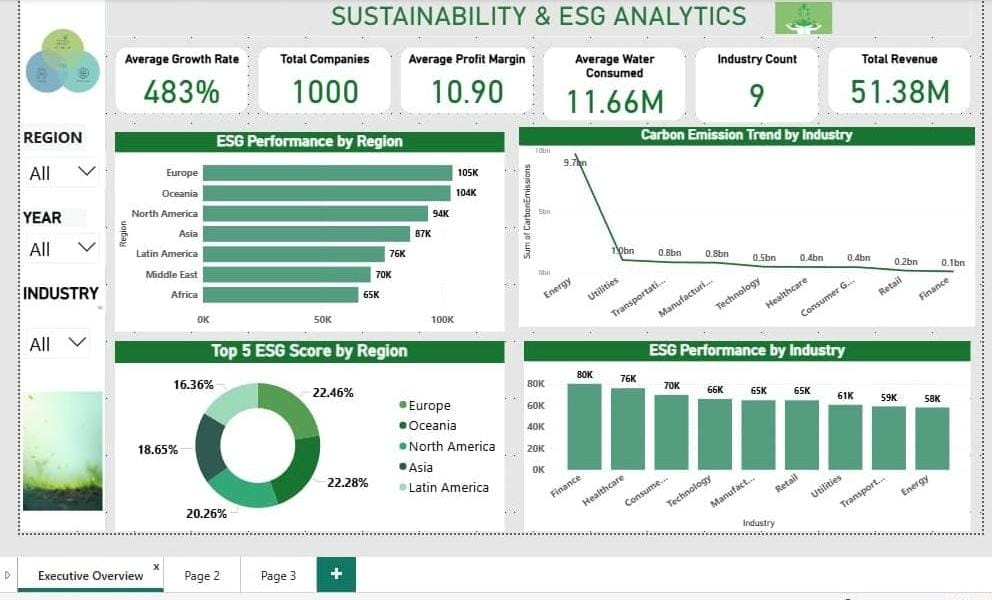

This screenshot's page, from the dashboard's own definition file:
{"tool":"powerbi","page":{"name":"Executive Overview","canvas":[1620,900],"ordinal":0},"visuals":[{"type":"card","title":"Total Companies","fields":{"Values":["Count(Sheet1.CompanyID)"]},"box":[400,80,224,112],"z":0},{"type":"card","title":"Total Revenue","fields":{"Values":["Sum(Sheet1.Revenue)"]},"box":[1360,80,240,112],"z":1000},{"type":"card","title":"Industry Count","fields":{"Values":["Count(Sheet1.Industry)"]},"box":[1136,80,208,128],"z":2000},{"type":"card","title":"Average Profit Margin","fields":{"Values":["Avg(Sheet1.ProfitMargin)"]},"box":[640,80,224,112],"z":3000},{"type":"card","title":"Average Growth Rate","fields":{"Values":["Avg(Sheet1.GrowthRate)"]},"box":[160,80,224,112],"z":4000},{"type":"clusteredColumnChart","title":"ESG Performance by Industry","fields":{"Category":["Sheet1.Industry"],"Y":["Sum(Sheet1.ESG_Overall)"]},"box":[848,576,752,320],"z":5000},{"type":"clusteredBarChart","title":"ESG Performance by Region","fields":{"Category":["Sheet1.Region"],"Y":["Sum(Sheet1.ESG_Overall)"]},"box":[160,224,656,336],"z":6000},{"type":"lineChart","title":"Carbon Emission Trend by Industry","fields":{"Y":["Sum(Sheet1.CarbonEmissions)"],"Category":["Sheet1.Industry"]},"box":[840,216,768,336],"z":7000},{"type":"card","title":"Average Water Consumed","fields":{"Values":["Avg(Sheet1.EnergyConsumption)"]},"box":[880,80,240,124],"z":8000},{"type":"shape","box":[0,0,144,896],"z":9000},{"type":"textbox","title":"SUSTAINABILITY & ESG ANALYTICS","box":[144,0,1456,64],"z":10000},{"type":"slicer","fields":{"Values":["Sheet1.Region"]},"box":[0,256,144,64],"z":11000},{"type":"textbox","box":[0,208,112,48],"z":12000},{"type":"slicer","fields":{"Values":["Sheet1.Year"]},"box":[0,384,144,64],"z":13000},{"type":"textbox","title":"YEAR","box":[0,352,112,32],"z":14000},{"type":"slicer","fields":{"Values":["Sheet1.Industry"]},"box":[0,544,128,64],"z":15000},{"type":"textbox","title":"INDUSTRY","box":[0,480,144,48],"z":16000},{"type":"donutChart","title":"Top 5 ESG Score by Region","fields":{"Category":["Sheet1.Region"],"Y":["Sum(Sheet1.ESG_Overall)"]},"box":[160,576,656,320],"z":17000},{"type":"image","box":[0,0,144,208],"z":18000},{"type":"image","box":[0,624,144,272],"z":19000},{"type":"image","box":[1216,0,208,64],"z":20000}]}

Visuals, with their boxes on the page's 1620x900 design canvas (x1, y1, x2, y2). These are canvas units, not pixel positions in the 992x600 screenshot, which may show the page scaled, cropped or inside an application window:
"Total Companies" card: (left=400, top=80, right=624, bottom=192)
"Total Revenue" card: (left=1360, top=80, right=1600, bottom=192)
"Industry Count" card: (left=1136, top=80, right=1344, bottom=208)
"Average Profit Margin" card: (left=640, top=80, right=864, bottom=192)
"Average Growth Rate" card: (left=160, top=80, right=384, bottom=192)
"ESG Performance by Industry" clusteredColumnChart: (left=848, top=576, right=1600, bottom=896)
"ESG Performance by Region" clusteredBarChart: (left=160, top=224, right=816, bottom=560)
"Carbon Emission Trend by Industry" lineChart: (left=840, top=216, right=1608, bottom=552)
"Average Water Consumed" card: (left=880, top=80, right=1120, bottom=204)
shape: (left=0, top=0, right=144, bottom=896)
"SUSTAINABILITY & ESG ANALYTICS" textbox: (left=144, top=0, right=1600, bottom=64)
slicer - Sheet1.Region: (left=0, top=256, right=144, bottom=320)
textbox: (left=0, top=208, right=112, bottom=256)
slicer - Sheet1.Year: (left=0, top=384, right=144, bottom=448)
"YEAR" textbox: (left=0, top=352, right=112, bottom=384)
slicer - Sheet1.Industry: (left=0, top=544, right=128, bottom=608)
"INDUSTRY" textbox: (left=0, top=480, right=144, bottom=528)
"Top 5 ESG Score by Region" donutChart: (left=160, top=576, right=816, bottom=896)
image: (left=0, top=0, right=144, bottom=208)
image: (left=0, top=624, right=144, bottom=896)
image: (left=1216, top=0, right=1424, bottom=64)
